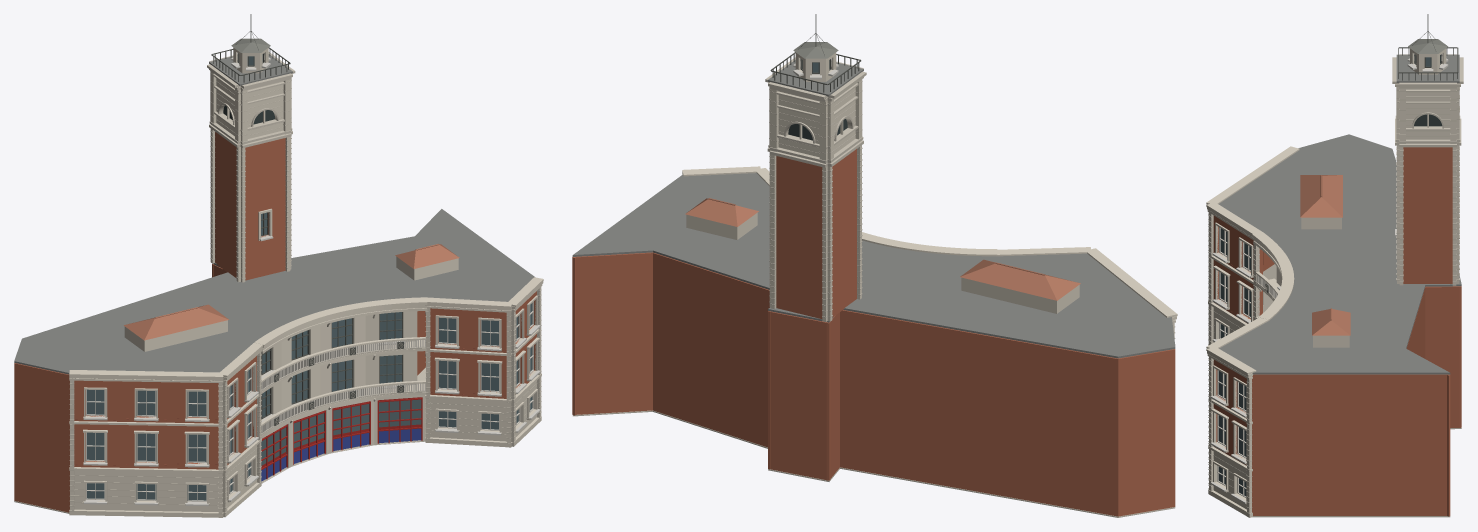
File: hongkou-hongkew-fire-station-raw.glb
3 views of the same model, side by side, from view 1: azimuth 30°, elevation 25°; view 2: azimuth 150°, elevation 25°; view 3: azimuth 270°, elevation 25° (orthographic). The views are drawn at different scales.
Visible parts, largest first — view 1: 虹口救火会临街旧楼与瞭望塔; view 2: 虹口救火会临街旧楼与瞭望塔; view 3: 虹口救火会临街旧楼与瞭望塔.
Boxes of the visible parts, box(x1,y1,x2,y2) form: 虹口救火会临街旧楼与瞭望塔: box(14, 14, 543, 517); 虹口救火会临街旧楼与瞭望塔: box(572, 14, 1177, 517); 虹口救火会临街旧楼与瞭望塔: box(1206, 14, 1463, 517).
Size of the model in its own units: 48.43 by 37.83 by 21.95.
